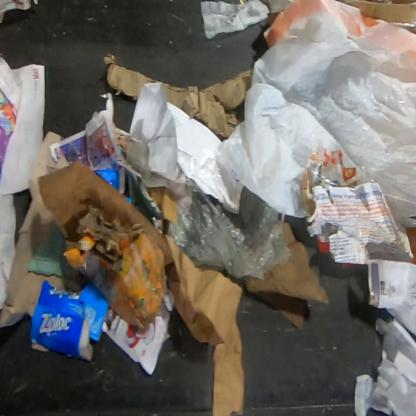cardboard: (0, 130, 86, 329), (103, 52, 252, 141), (62, 207, 168, 331), (243, 221, 331, 332), (29, 279, 109, 363), (335, 0, 415, 35)
soft_plastic: (250, 0, 415, 236), (215, 83, 375, 219), (166, 160, 293, 281)
